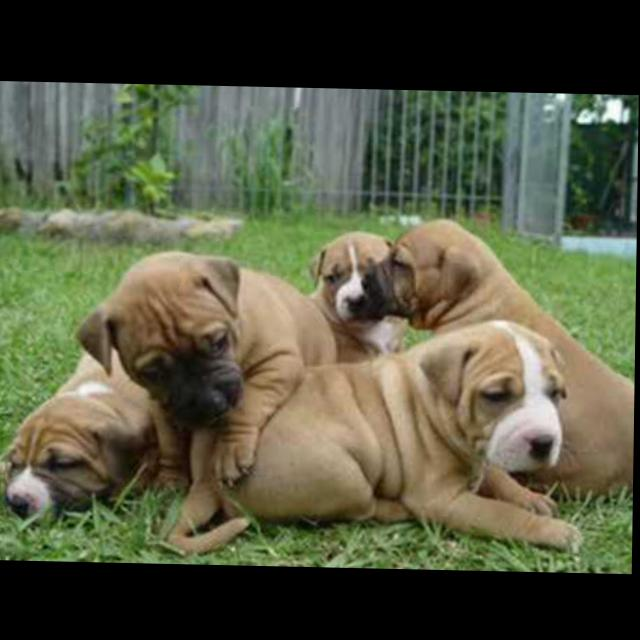am_pit_bull_terrier: (159, 313, 591, 552), (362, 214, 638, 503), (77, 248, 341, 493), (1, 342, 161, 525), (307, 230, 410, 364)
